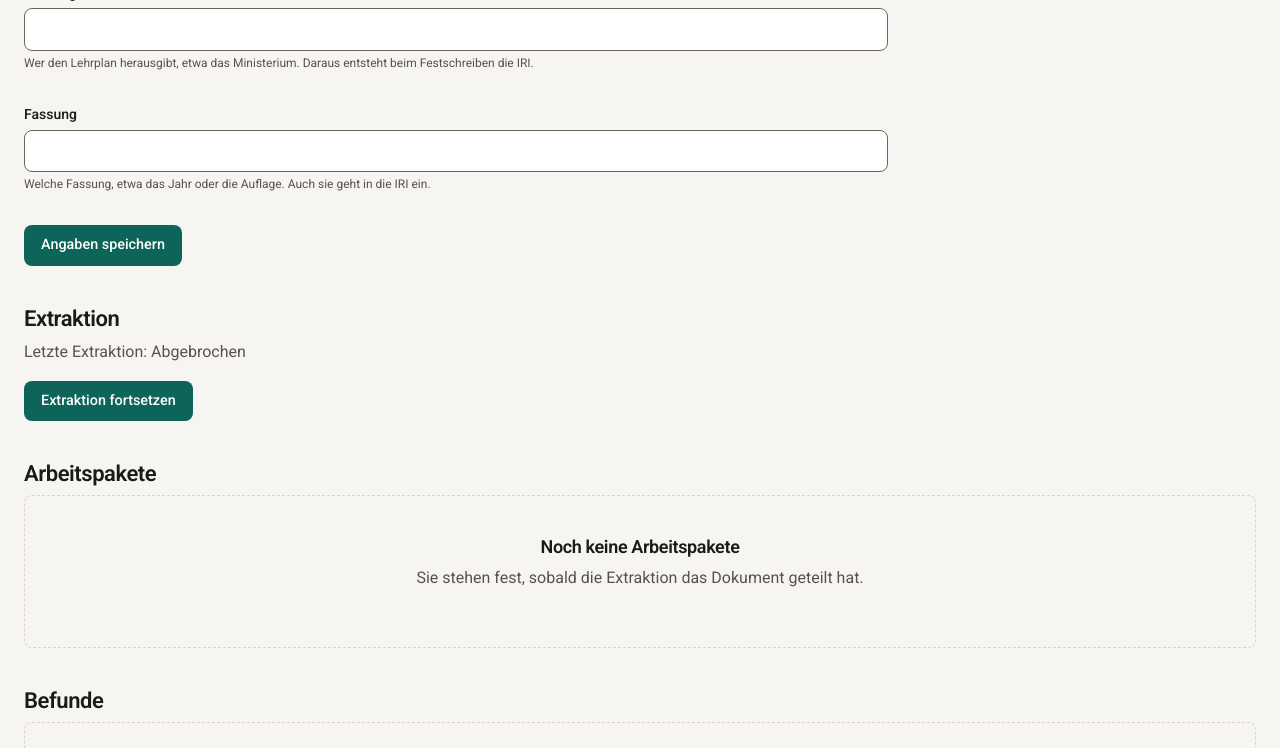
a document's extraction asked after on its page › asks after the document again when a job it started is gone from the reader
(page scrolled)
Click the button with test id "extraction-resume".
click(108, 401)  # box left=24, top=381, right=193, bottom=421
Wait 1000 ms
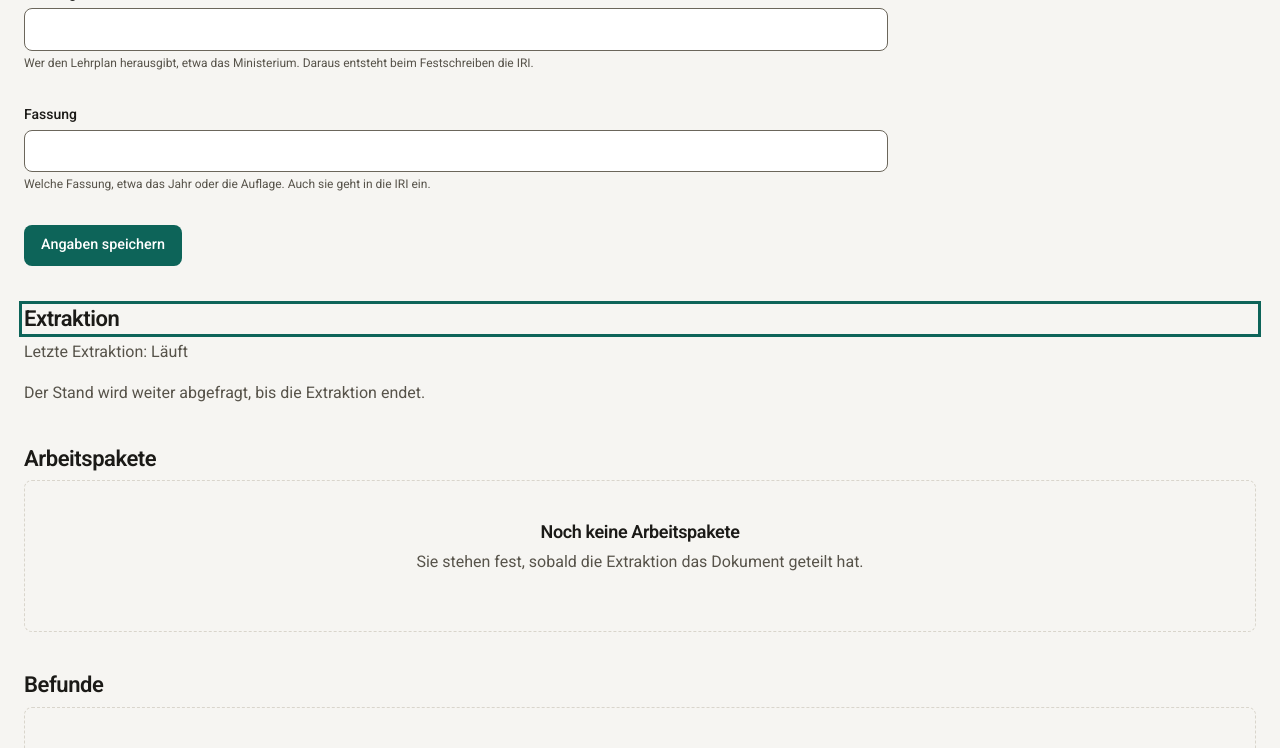
Now the element that starts with "Extraktion" shows "Der Stand wird weiter abgefragt, bis die Extraktion endet.", box left=24, top=383, right=425, bottom=402
